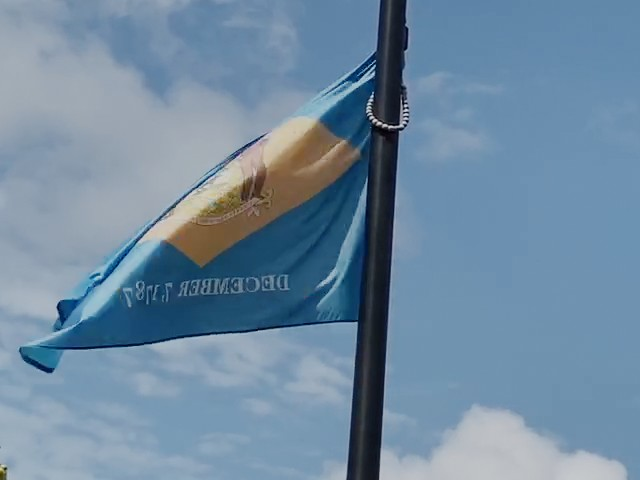Delaware flag: (19, 47, 379, 372)
